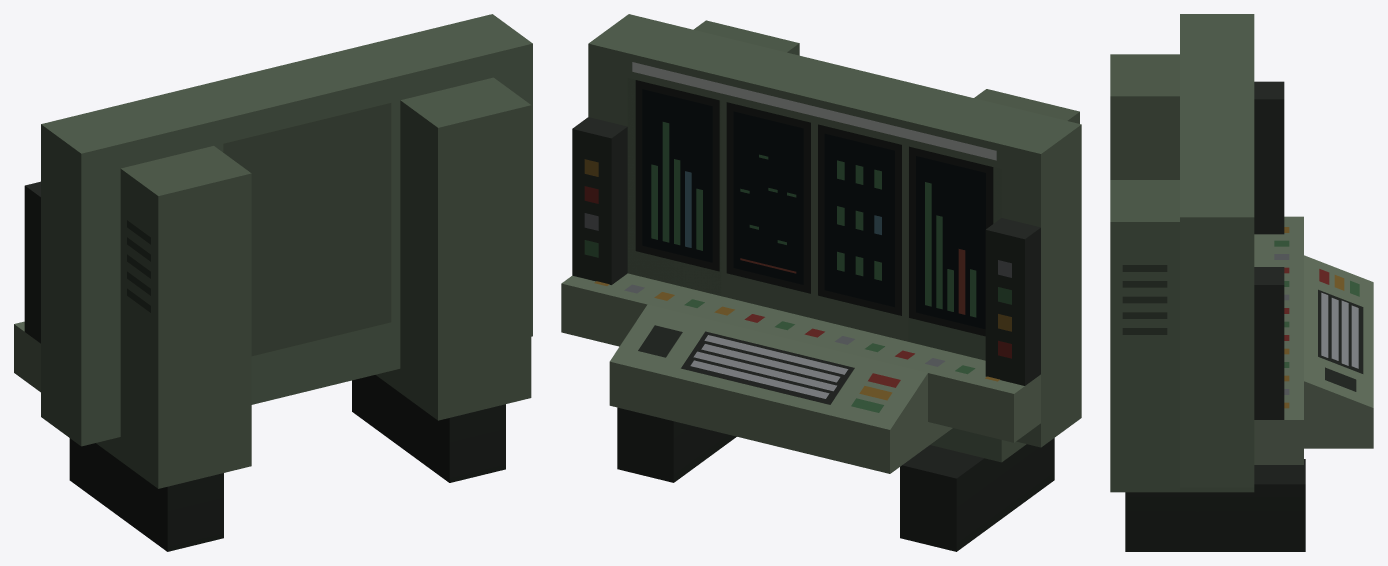
Rendered from console.panel.green.glb.
3 renders of one model, left to right at view 1: azimuth 30°, elevation 25°; view 2: azimuth 150°, elevation 25°; view 3: azimuth 270°, elevation 25°, orthographic. The views are drawn at different scales.
Visible parts, largest first — view 1: console_panel_green; view 2: console_panel_green; view 3: console_panel_green.
Boxes of the visible parts, bbox=[...] form: console_panel_green: bbox=[14, 14, 532, 551]; console_panel_green: bbox=[561, 14, 1081, 551]; console_panel_green: bbox=[1110, 14, 1373, 551].
Size of what is drawn, in the model's own units: 1.94 by 1.6 by 1.06.
